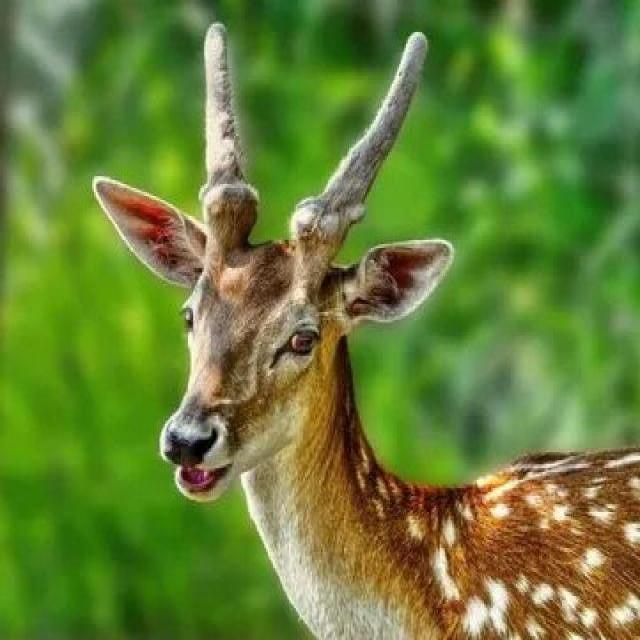deer: (102, 44, 640, 640)
